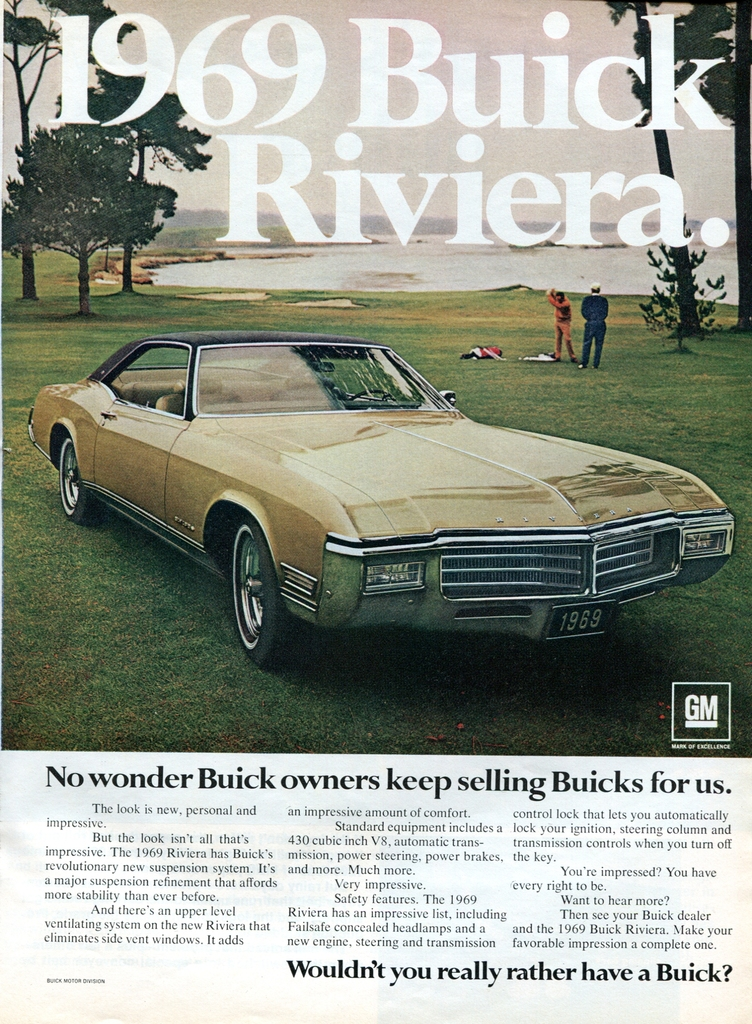Car: (26, 329, 734, 672)
